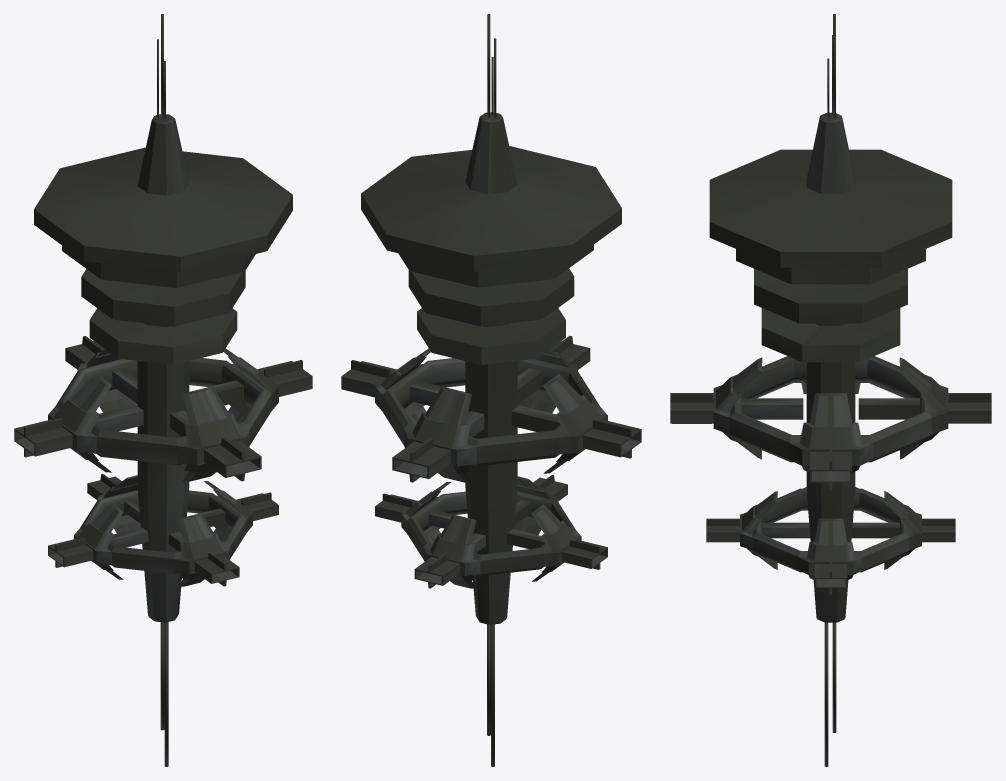
The model's file is spaceStation.fbx.
3 renders of one model, left to right at view 1: azimuth 30°, elevation 25°; view 2: azimuth 150°, elevation 25°; view 3: azimuth 270°, elevation 25°, orthographic.
Visible parts, largest first — view 1: polySurface6; view 2: polySurface6; view 3: polySurface6.
Boxes of the visible parts, x1,y1,x2,y2 form: polySurface6: (14,14,312,766); polySurface6: (341,14,641,766); polySurface6: (670,14,991,766).
Bounding box in the file's own units: 1.9 × 4.9 × 1.9.
Materials: 1 (1 with a texture image).
